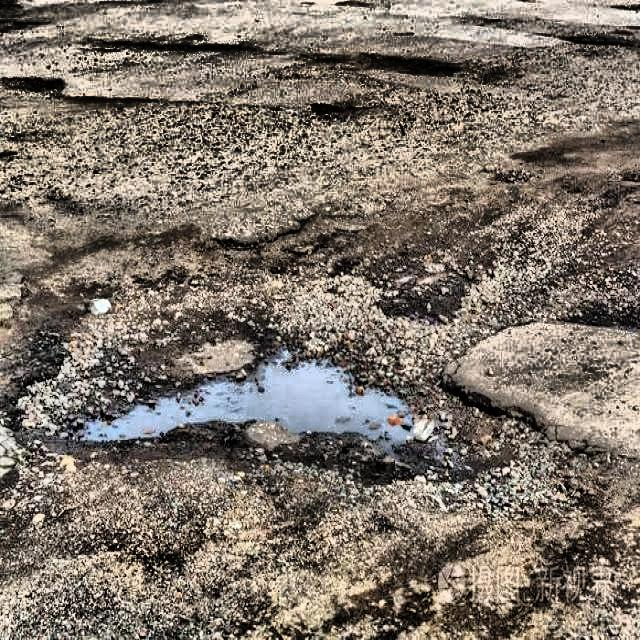buraco: (50, 336, 559, 516), (366, 46, 458, 88), (2, 66, 80, 114), (112, 37, 246, 62)
